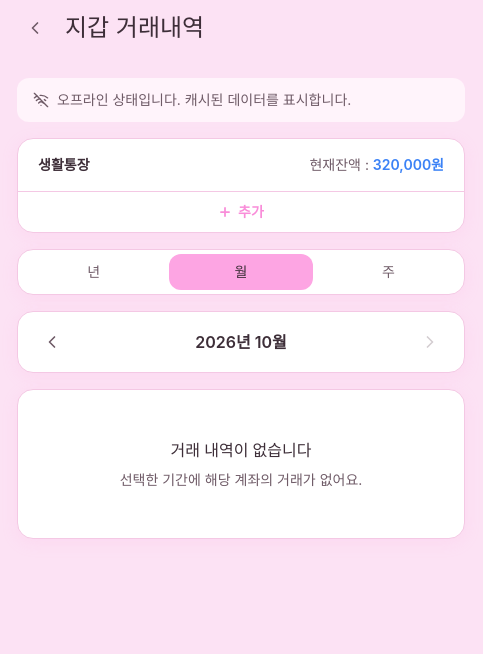
it: WalletTransactionsPage — ACCOUNT › 오프라인에서는 계좌의 자주 쓰는 거래 버튼이 비활성화된다
Click the button with aria-label "거래등록/계좌이동/자주 쓰는 거래" at point(241, 212), box [18, 191, 464, 232]
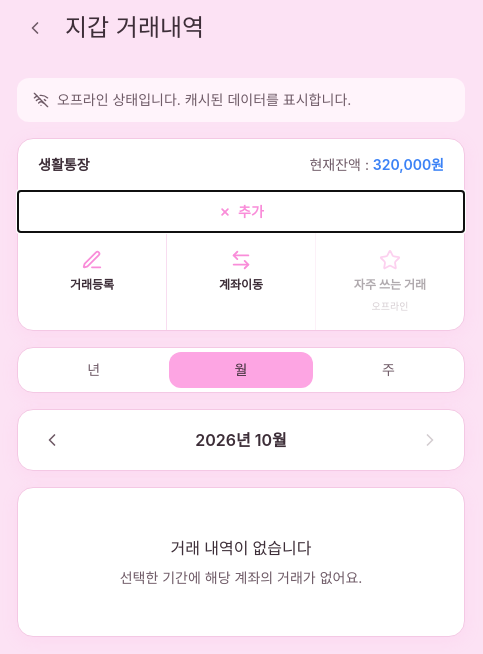
Result: the button "자주 쓰는 거래 오프라인" is disabled at [315, 233, 464, 330]
